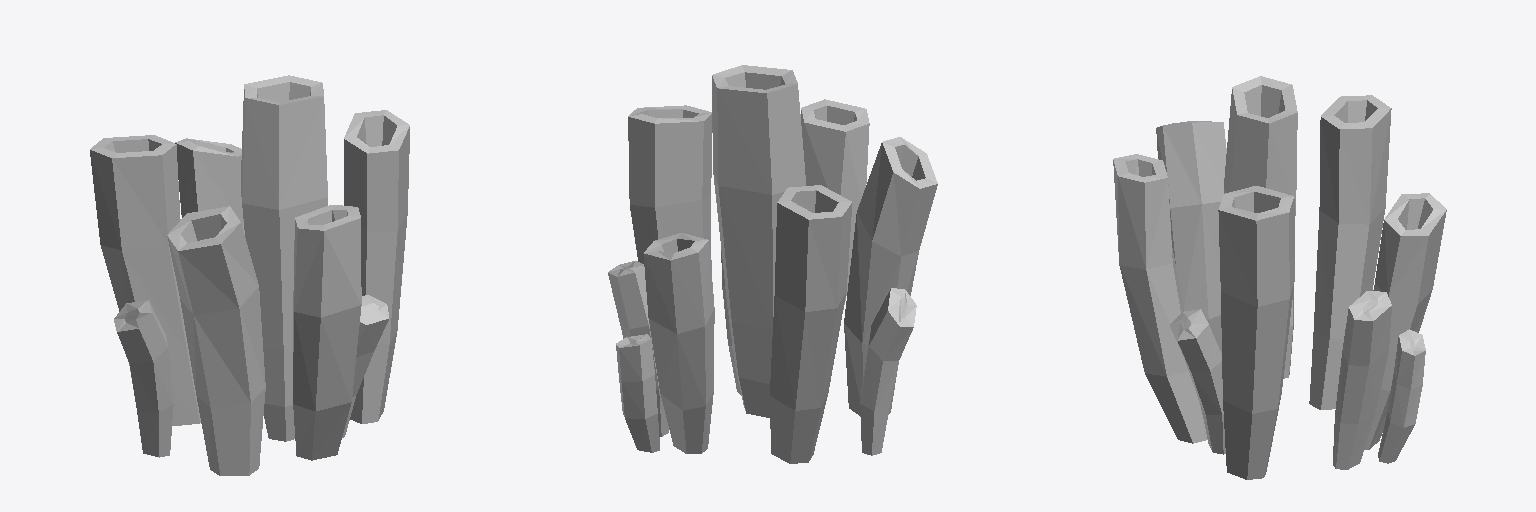
Rendered from Coral_D_03_LOD2.obj.
3 renders of one model, left to right at view 1: azimuth 30°, elevation 25°; view 2: azimuth 150°, elevation 25°; view 3: azimuth 270°, elevation 25°, orthographic.
Parts seen in each view (by area): view 1: Coral_D_03_LOD2_Cylinder.434; view 2: Coral_D_03_LOD2_Cylinder.434; view 3: Coral_D_03_LOD2_Cylinder.434.
Boxes of the visible parts, box(x1,y1,x2,y2) form: Coral_D_03_LOD2_Cylinder.434: box(90, 75, 409, 475); Coral_D_03_LOD2_Cylinder.434: box(608, 65, 937, 463); Coral_D_03_LOD2_Cylinder.434: box(1113, 76, 1446, 479).
Size of the model in its own units: 4.18 by 4.77 by 4.24.